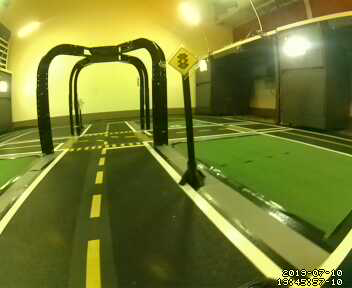Traffic light sign: (168, 45, 199, 74)
